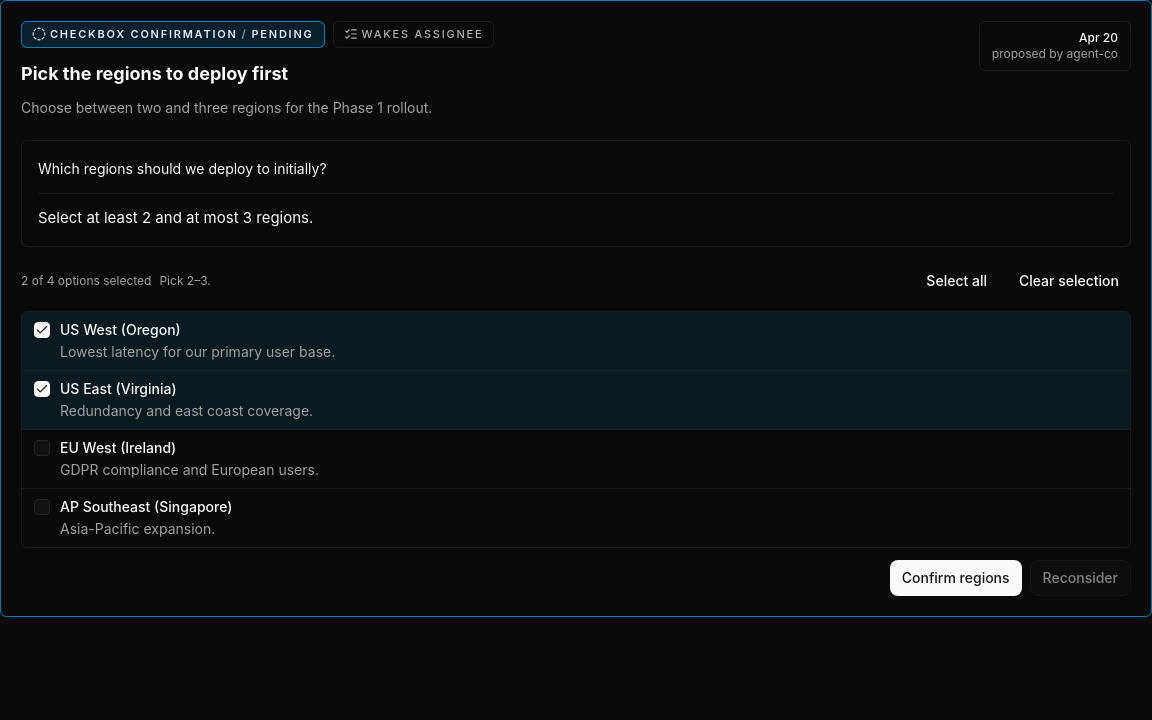
Scenario: IssueThreadInteractionCard › disables remaining checkboxes once the max selection is reached
This screenshot has width=1152, height=720.
What coordinates should you click on to do the following:
click the checkbox named "EU West (Ireland)"
I would click on:
 (42, 448)
Its box is [34,440,50,456].
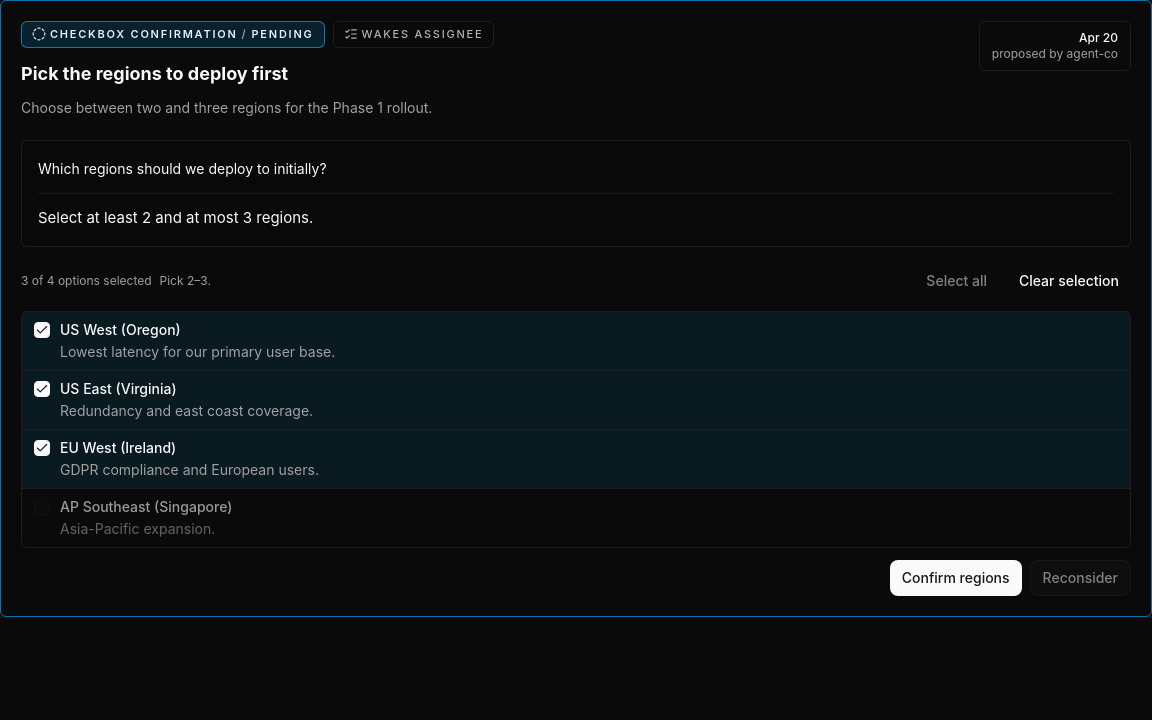
Expected: the button "Select all" is disabled, [914,262,999,298]
